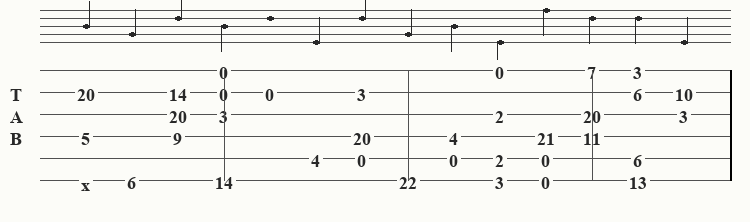0: (219, 84, 232, 100), (219, 62, 232, 78), (265, 84, 278, 100), (357, 150, 370, 166), (449, 150, 462, 166), (495, 62, 508, 78), (541, 172, 554, 188), (541, 150, 554, 166)
10: (675, 84, 697, 100)
11: (583, 128, 605, 144)
13: (629, 172, 651, 188)
14: (169, 84, 191, 100), (215, 172, 237, 188)
2: (495, 106, 508, 122), (495, 150, 508, 166)
20: (77, 84, 99, 100), (169, 106, 191, 122), (353, 128, 375, 144), (583, 106, 605, 122)
21: (537, 128, 559, 144)
22: (399, 172, 421, 188)
3: (219, 106, 232, 122), (357, 84, 370, 100), (495, 172, 508, 188), (633, 62, 646, 78), (679, 106, 692, 122)
4: (311, 150, 324, 166), (449, 128, 462, 144)
5: (81, 128, 94, 144)
6: (127, 172, 140, 188), (633, 84, 646, 100), (633, 150, 646, 166)
7: (587, 62, 600, 78)
9: (173, 128, 186, 144)
x: (81, 174, 94, 186)
